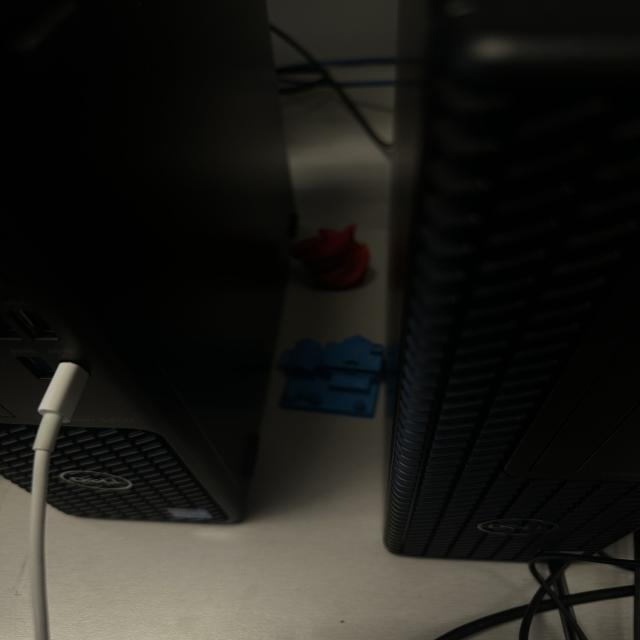fire: (289, 220, 374, 291)
house: (275, 330, 389, 420)
